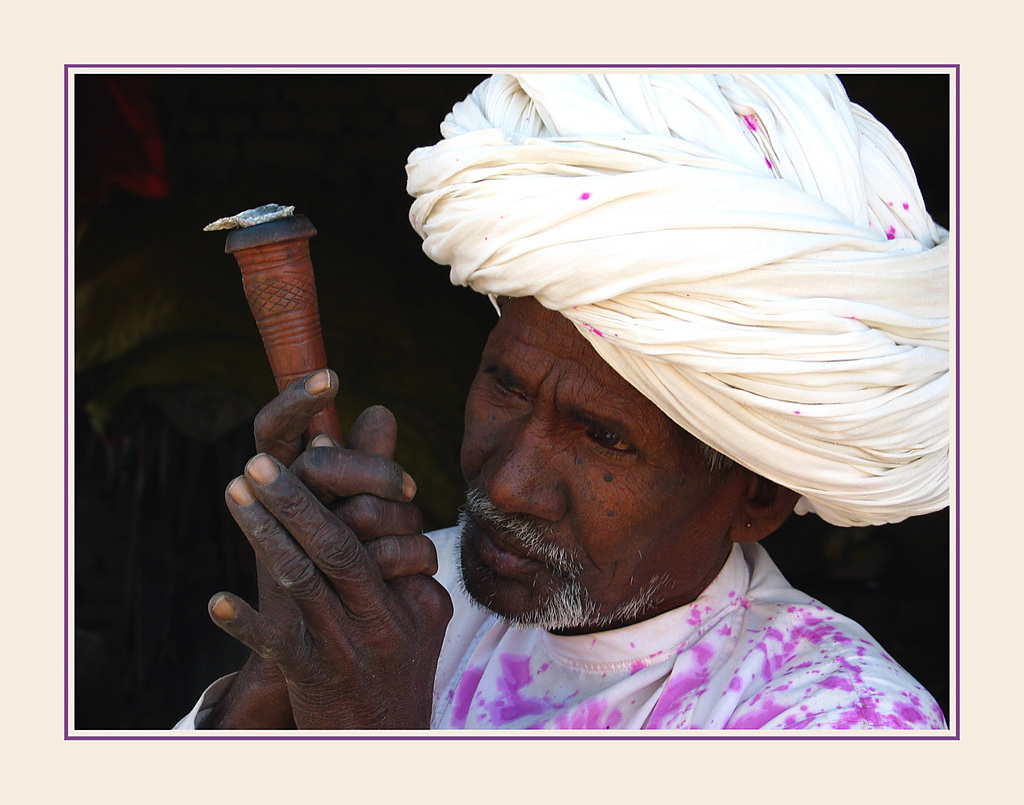Human-face: (456, 297, 736, 623)
